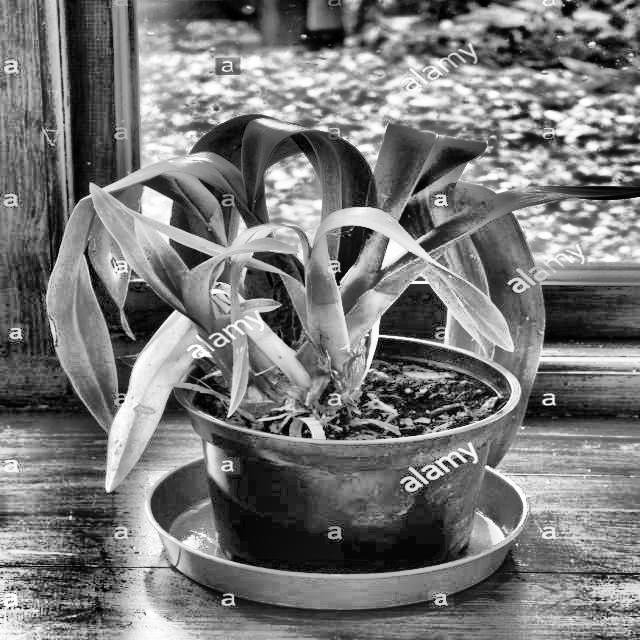plants: (41, 109, 640, 616), (318, 165, 580, 506), (106, 274, 315, 505)
